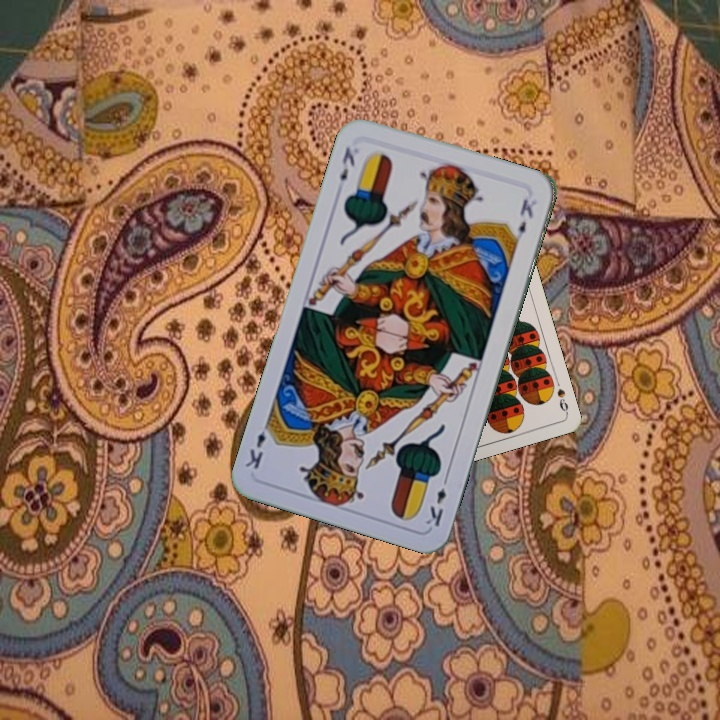EK: (421, 471, 451, 529), (335, 142, 358, 184)
S9: (553, 385, 571, 417)
